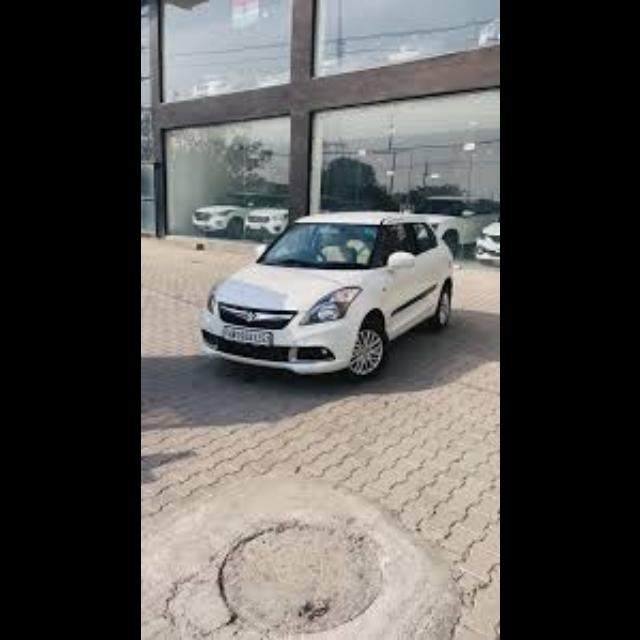vehicles: (196, 208, 457, 378), (190, 192, 290, 240), (417, 197, 498, 251)
